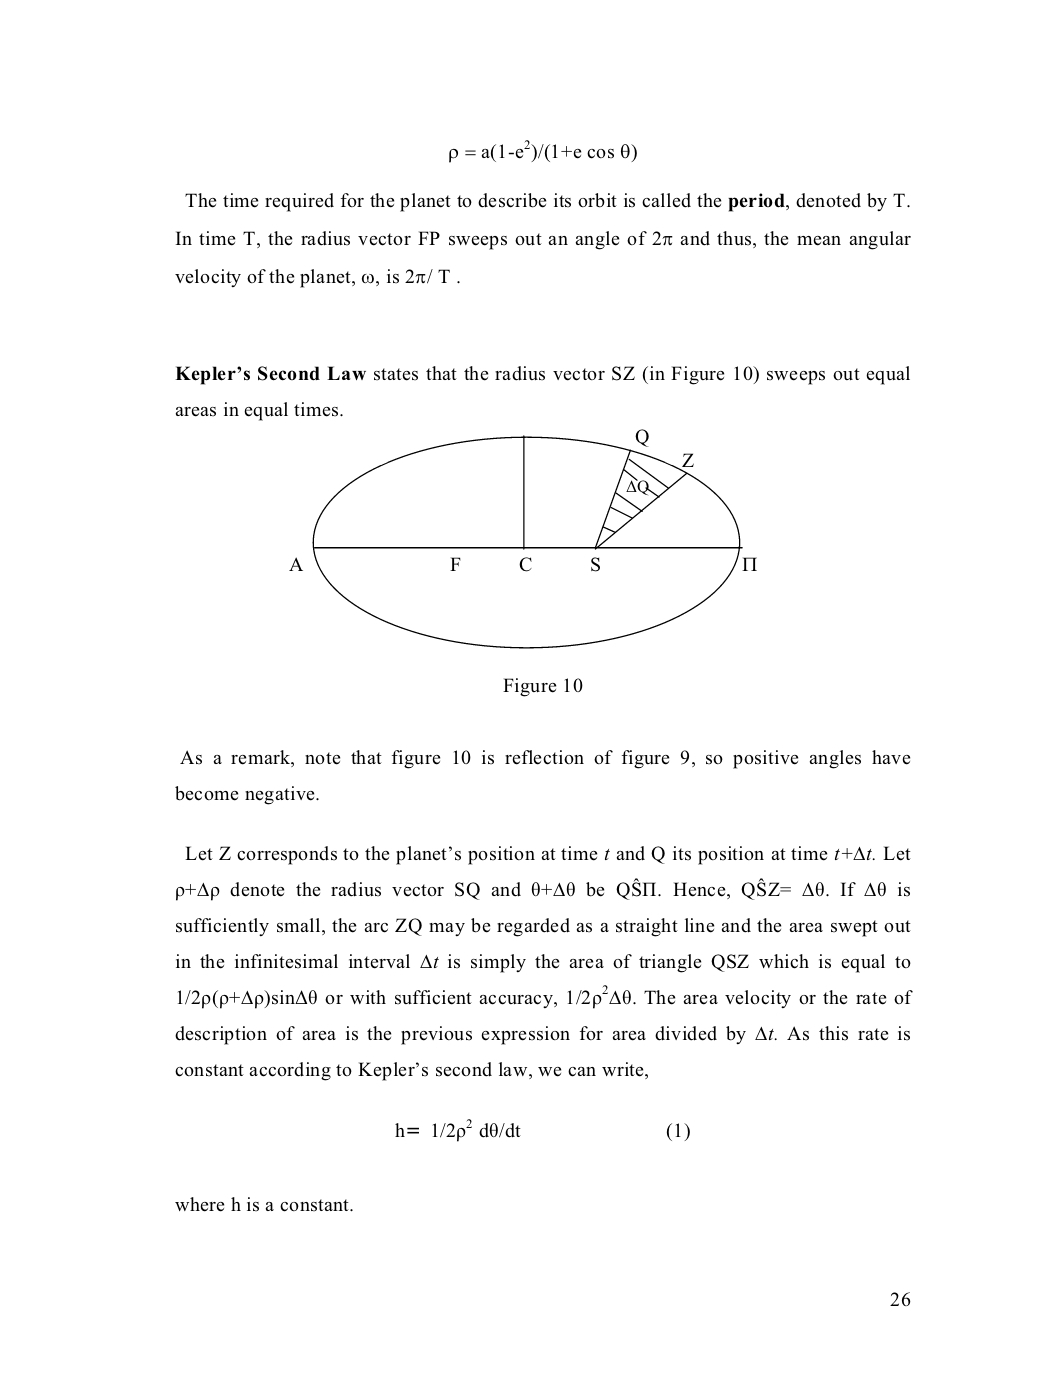figure: (289, 428, 756, 649)
formula: (395, 1118, 689, 1142), (449, 140, 636, 162)
